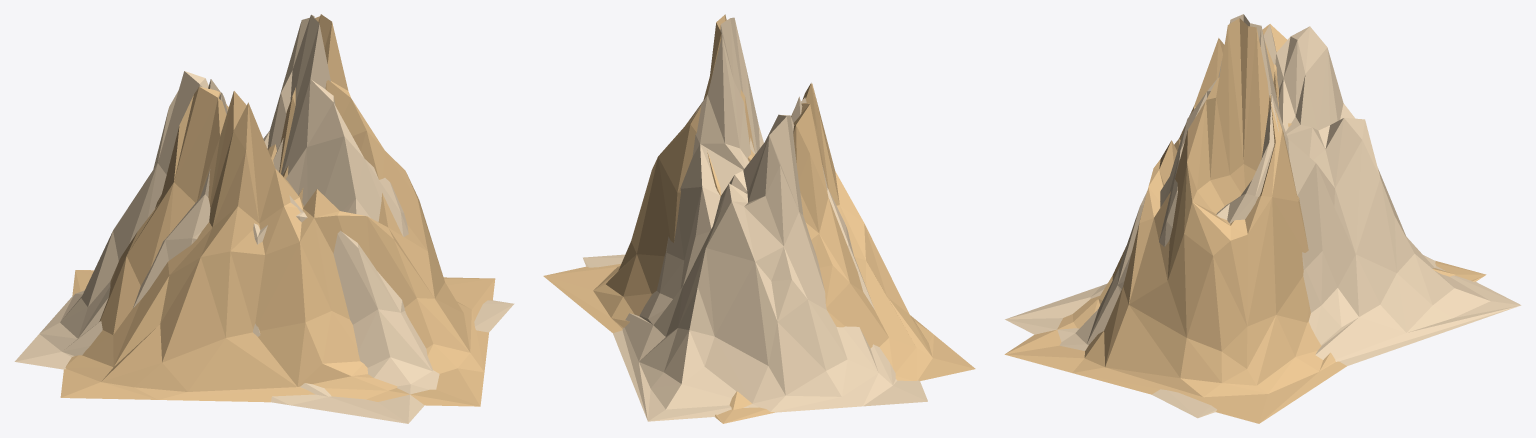
File: mount3_00008.fbx
3 views of the same model, side by side, from view 1: azimuth 30°, elevation 25°; view 2: azimuth 150°, elevation 25°; view 3: azimuth 270°, elevation 25° (orthographic). The views are drawn at different scales.
Visible parts, largest first — view 1: mount3; view 2: mount3; view 3: mount3.
Part boxes in pixels (x1,y1,x2,y2): mount3: (14, 14, 514, 423); mount3: (543, 14, 975, 423); mount3: (1004, 14, 1521, 423).
Bounding box in the file's own units: 6307 × 4254 × 6309.
